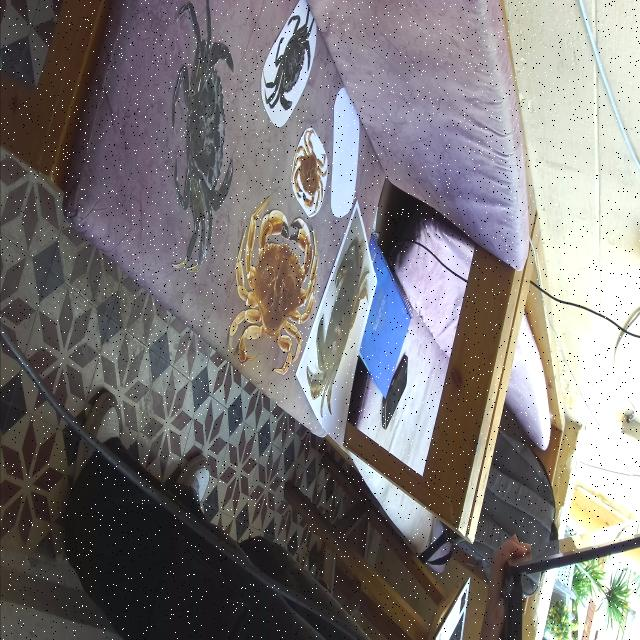European_Green_Crab: (172, 0, 234, 272), (255, 0, 329, 128)
